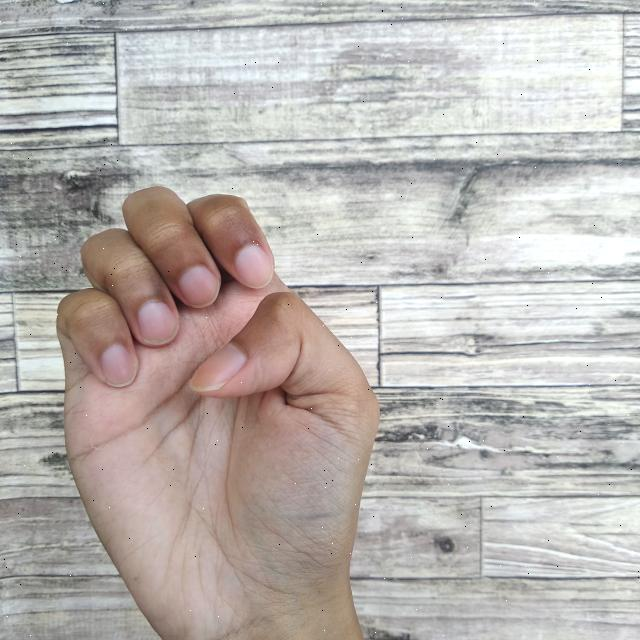E: (55, 183, 383, 640)
